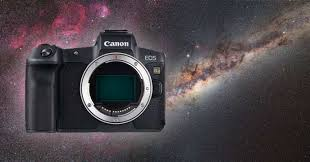camera: (26, 39, 166, 135)
